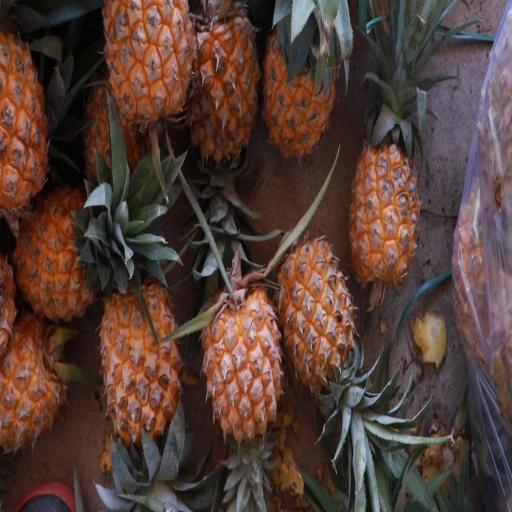Pineapple - v8 v1: (6, 184, 133, 331), (97, 270, 184, 480), (101, 0, 200, 177), (272, 235, 358, 428), (198, 270, 286, 454), (345, 101, 423, 291), (184, 0, 263, 172), (260, 2, 338, 164), (0, 25, 53, 231), (0, 310, 71, 461)
